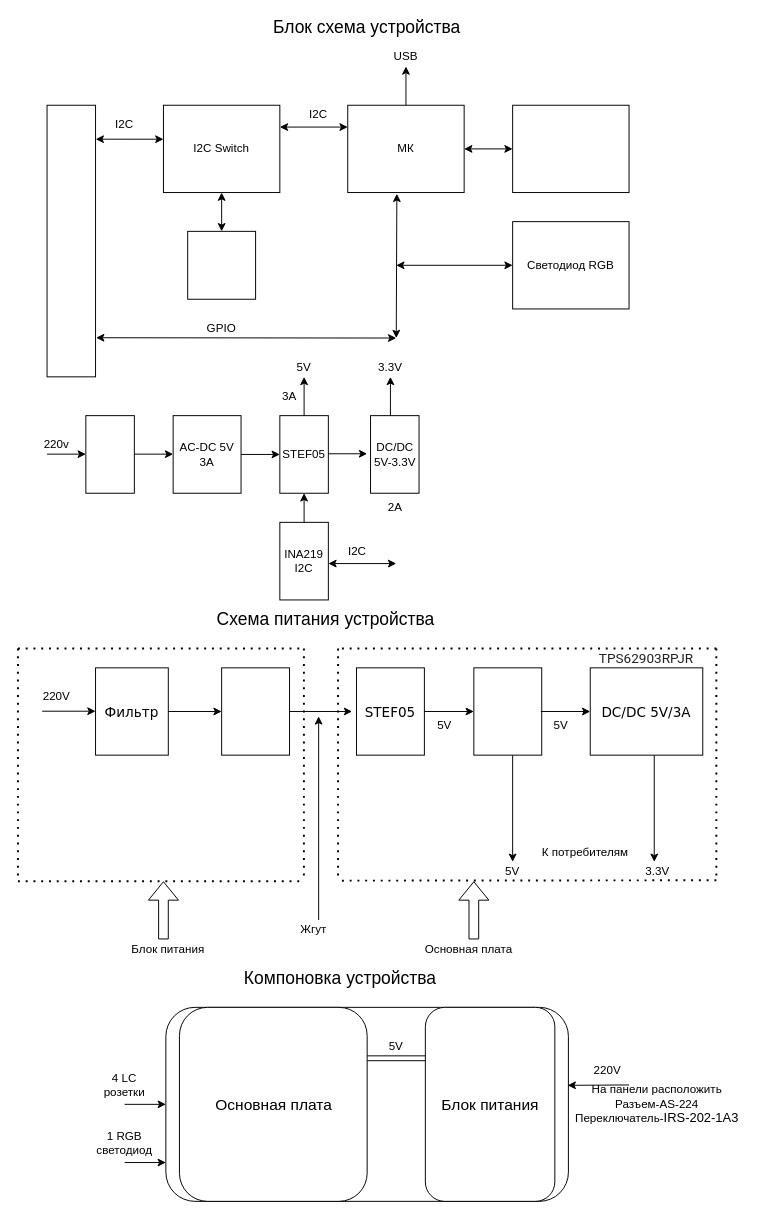
Image size: 762x1218. Some labels were removed from this diagram. The shapes that lost their labels are listed below. From the top down, each one's centre as x and y in pixels, then its label:
pixel 570 148: ETH-PHY LAN8720
pixel 71 240: Разъем к VOA
pixel 221 264: Термометр LM75
pixel 109 454: Filter ac/ac
pixel 255 711: IRM-15-5
pixel 507 711: INA219
